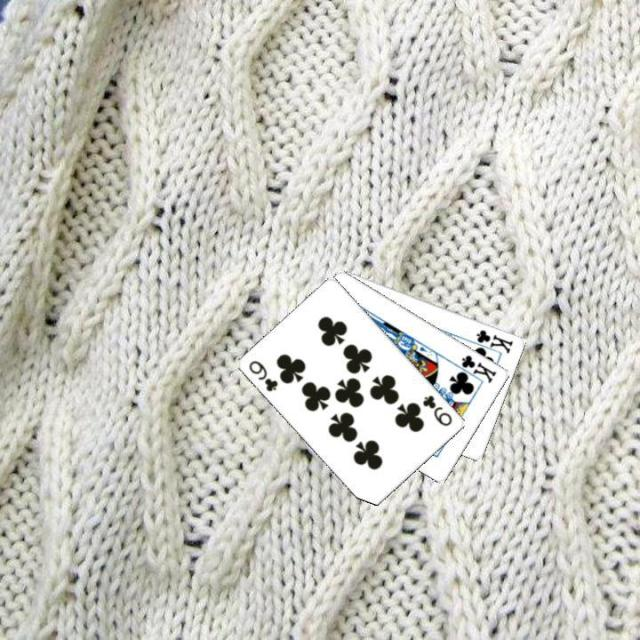9C: (419, 391, 454, 429), (245, 356, 280, 394)
KC: (449, 351, 498, 385), (466, 326, 514, 356)
